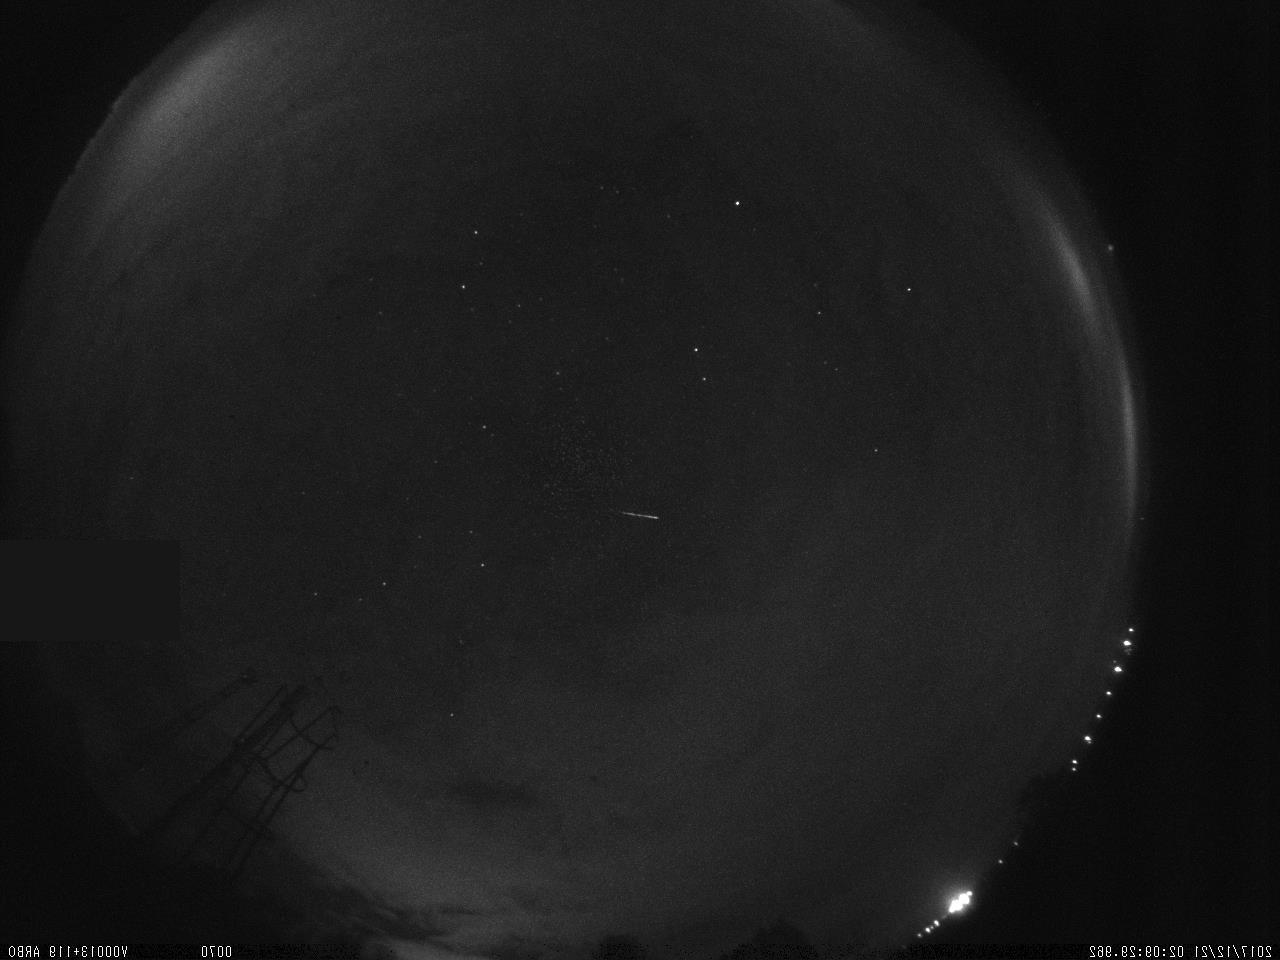meteor: (606, 505, 664, 536)
